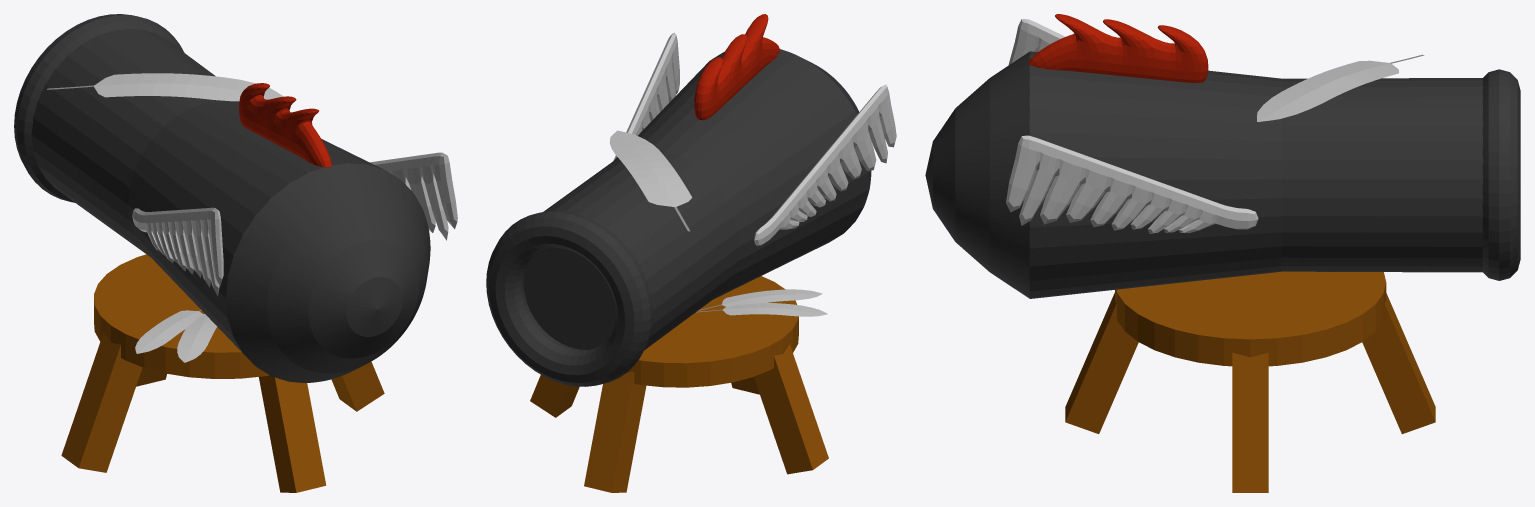
Rendered from Canon.fbx.
The picture shows the model from 3 angles, left to right: view 1: azimuth 30°, elevation 25°; view 2: azimuth 150°, elevation 25°; view 3: azimuth 270°, elevation 25°; orthographic projection. The views are drawn at different scales.
Parts seen in each view (by area): view 1: Circle, Cube.003, Cube.001, Cube, Plane; view 2: Circle, Cube.003, Cube.001, Cube, Plane; view 3: Circle, Cube.003, Cube.001, Cube, Plane.
Part boxes in pixels (box(x1,y1,x2,y2)): Circle: box(14, 14, 430, 382); Cube.003: box(61, 254, 384, 492); Cube.001: box(132, 152, 457, 296); Cube: box(239, 83, 331, 167); Plane: box(47, 73, 283, 101); Circle: box(486, 49, 871, 386); Cube.003: box(530, 276, 828, 492); Cube.001: box(613, 32, 896, 245); Cube: box(694, 14, 779, 120); Plane: box(609, 130, 692, 231); Circle: box(925, 51, 1520, 298); Cube.003: box(1065, 271, 1435, 492); Cube.001: box(1006, 19, 1258, 233); Cube: box(1027, 14, 1208, 82); Plane: box(1257, 54, 1424, 121).
Bounding box in the file's own units: 4.39 × 2.73 × 3.35.
